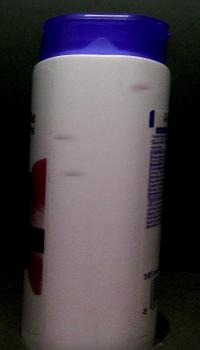dent_marginal: (56, 162, 96, 186), (120, 75, 152, 98), (44, 128, 82, 147)
